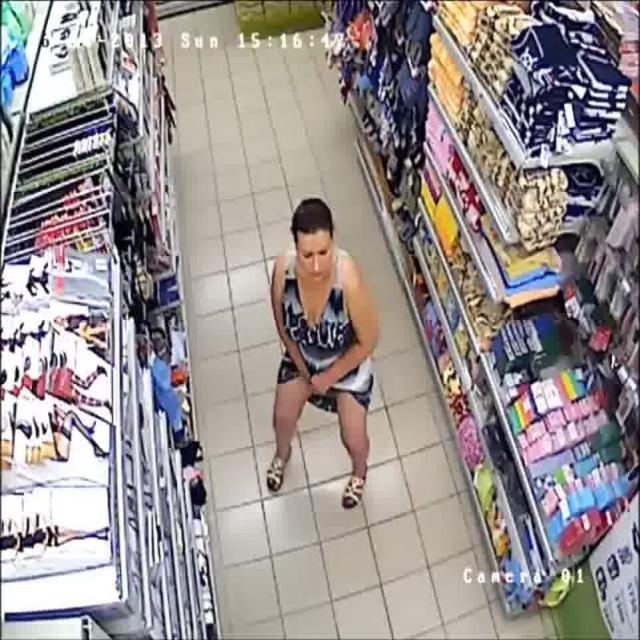Shoplifting: (262, 187, 400, 550)
